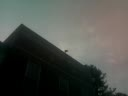window: (27, 60, 40, 78)
